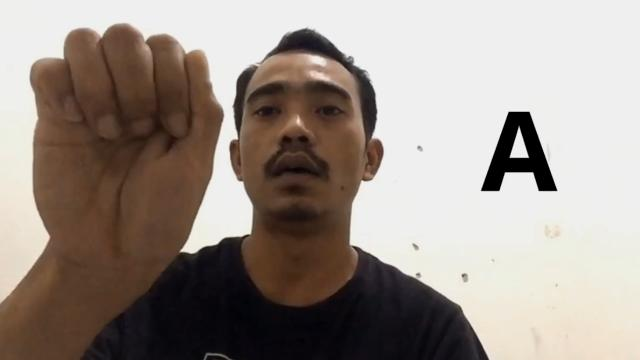A: (24, 20, 224, 282)
